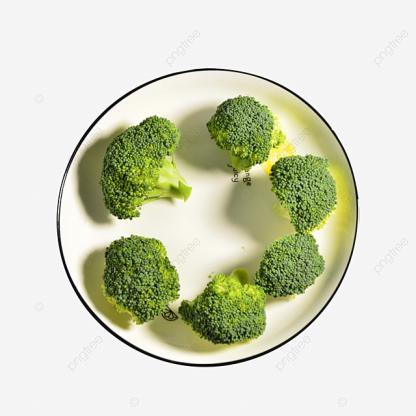broccoli: (95, 94, 342, 345)
